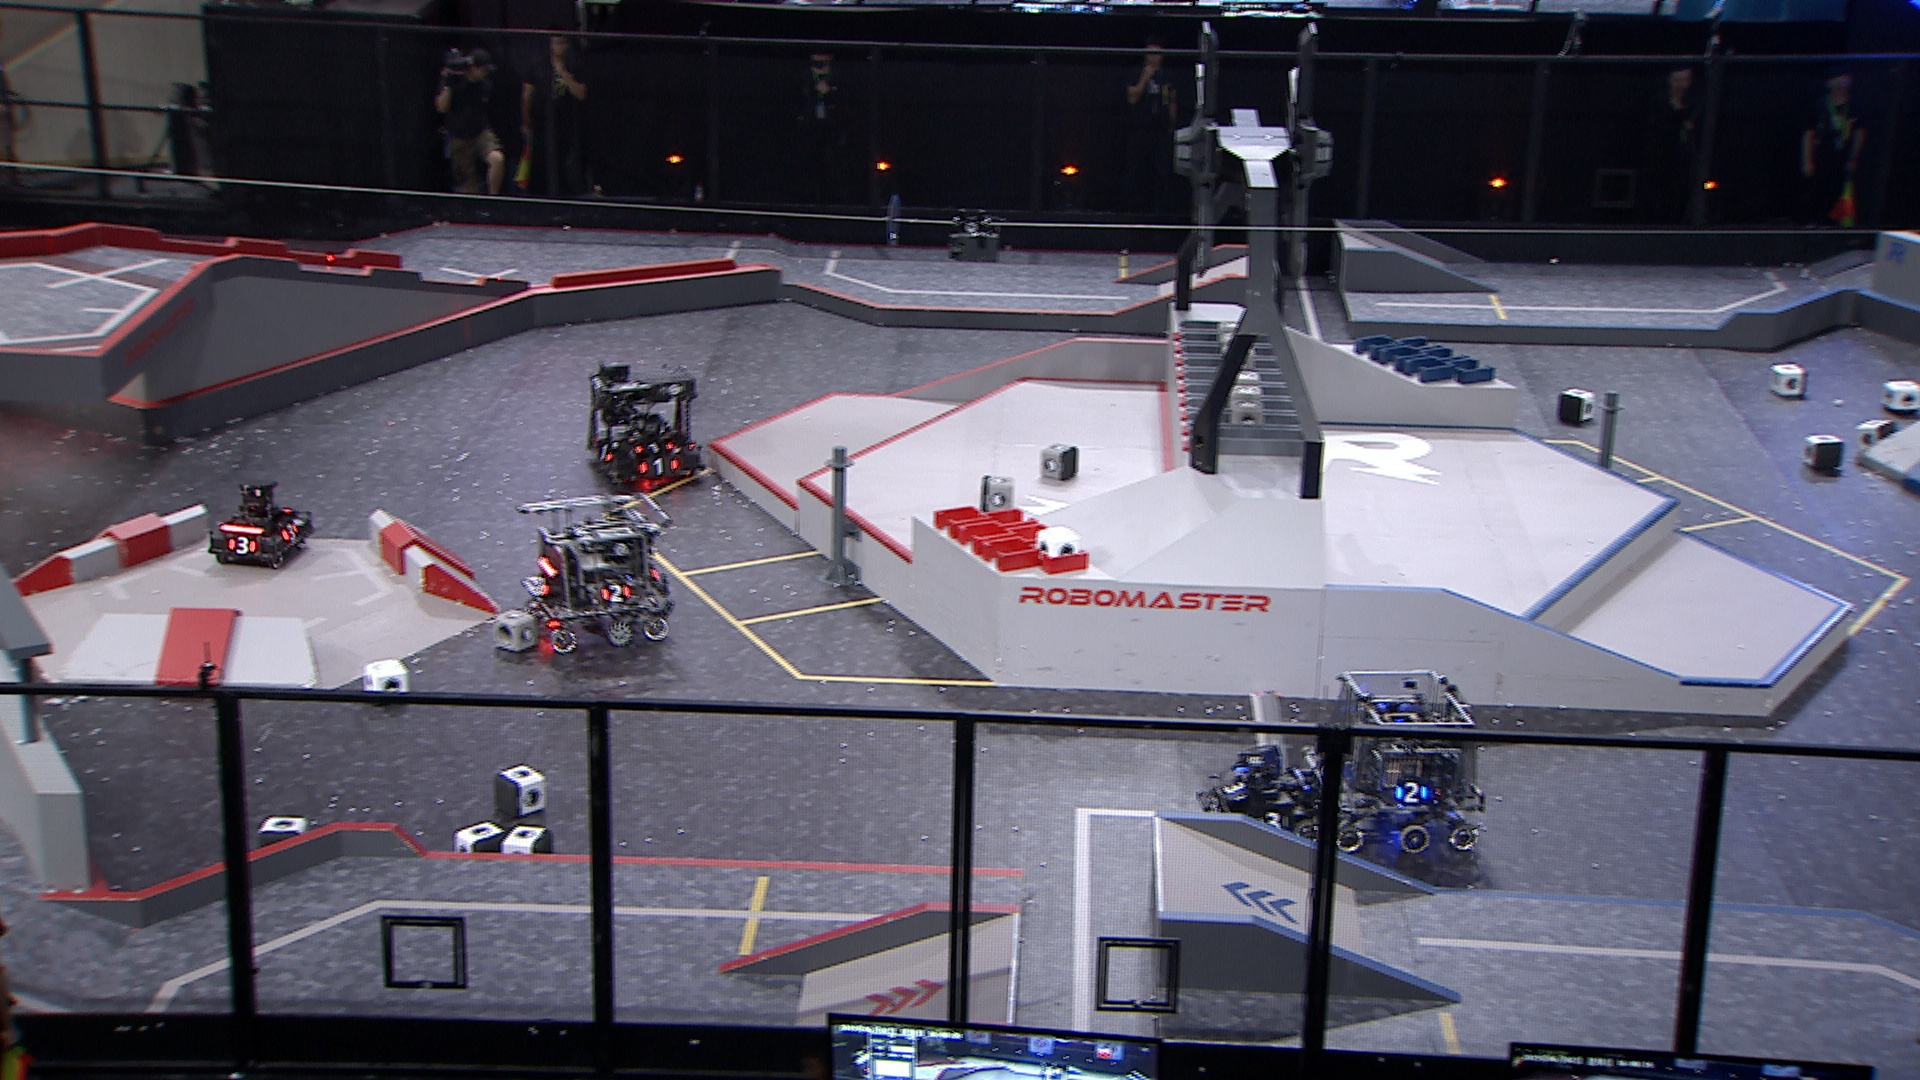armor: (1393, 781, 1433, 807), (599, 583, 633, 605), (637, 458, 680, 475), (225, 534, 257, 556), (1255, 811, 1287, 832), (1221, 778, 1249, 802), (632, 440, 675, 454), (281, 520, 301, 543), (531, 576, 553, 597), (596, 442, 615, 462)
car: (1302, 670, 1489, 856), (516, 491, 676, 655), (583, 368, 708, 491), (1192, 744, 1325, 849), (204, 481, 318, 570)
